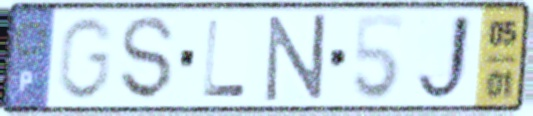5: (353, 11, 409, 105)
G: (53, 14, 117, 104)
J: (412, 10, 476, 106)
L: (200, 16, 251, 100)
N: (263, 11, 329, 106)
S: (118, 14, 178, 104)
